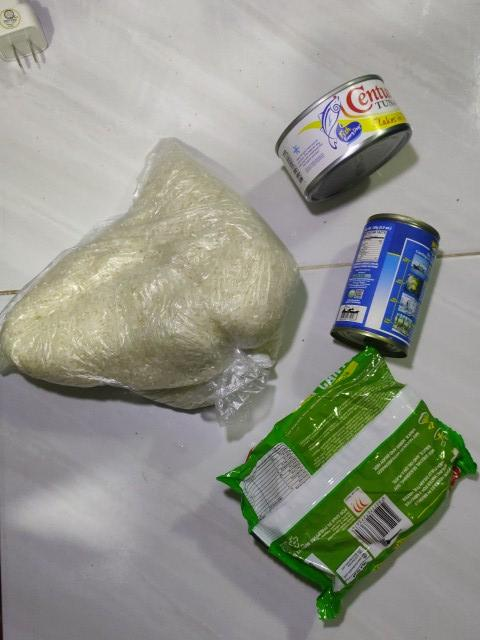Noodles: (216, 345, 480, 629)
canned-goods: (259, 73, 417, 210), (330, 206, 444, 359)
rice: (0, 133, 298, 419)
